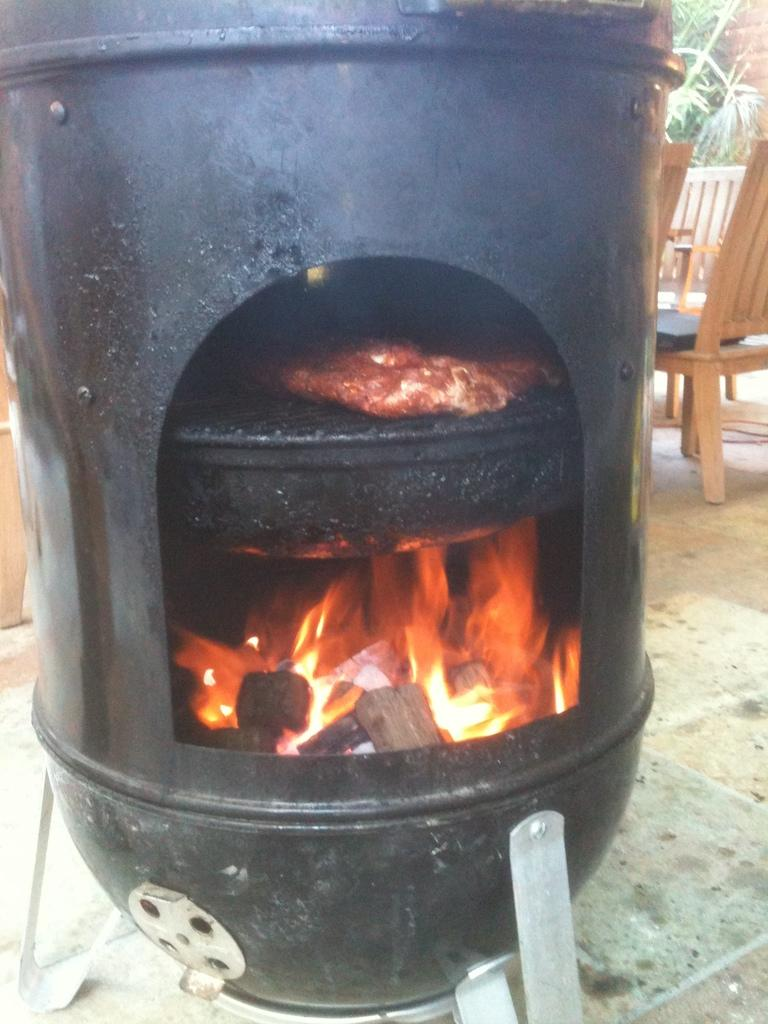Fire: (172, 540, 595, 752)
